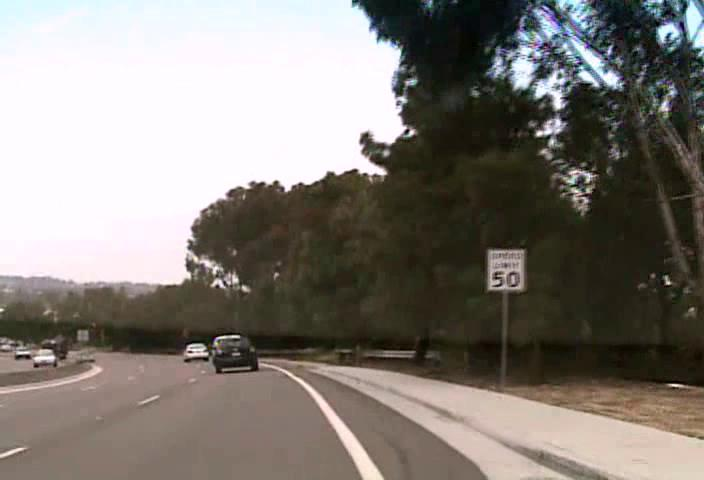speedLimit50: (486, 247, 526, 291)
